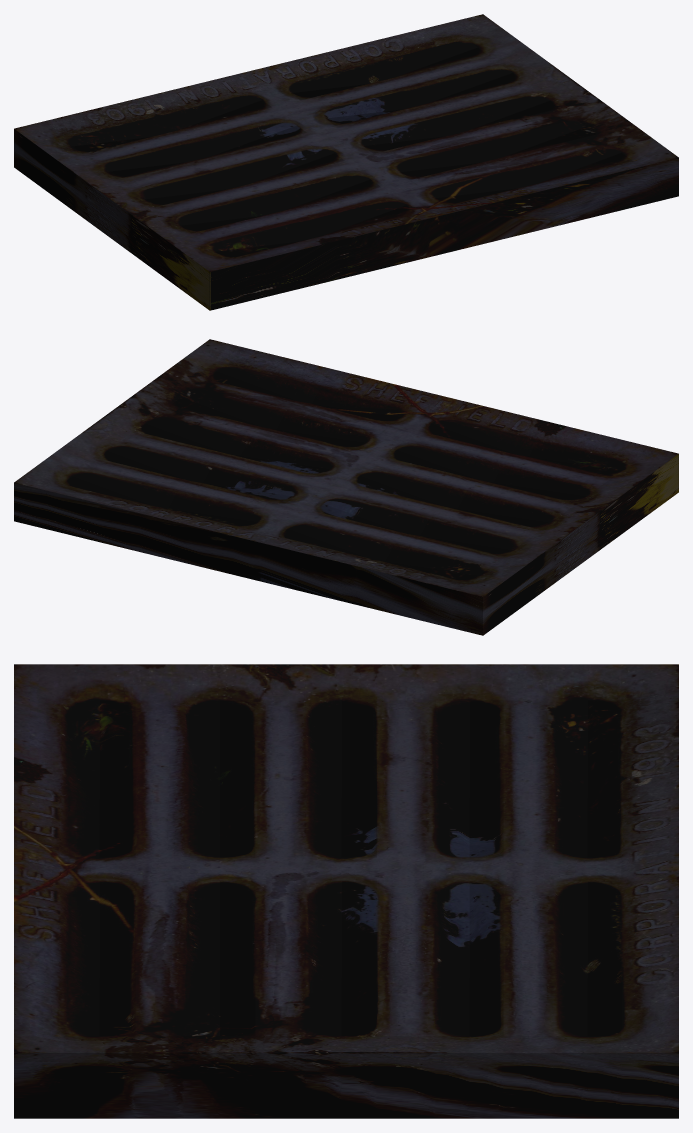
File: drain.glb
3 views of the same model, one above another, from view 1: azimuth 30°, elevation 25°; view 2: azimuth 150°, elevation 25°; view 3: azimuth 270°, elevation 25° (orthographic). The views are drawn at different scales.
Visible parts, largest first — view 1: Cube; view 2: Cube; view 3: Cube.
Part boxes in pixels (x1,y1,x2,y2): Cube: (14,14,678,310); Cube: (14,339,678,635); Cube: (14,664,678,1118).
Size of the model in its own units: 2.38 by 0.1875 by 1.72.
1 material, 1 textured.
